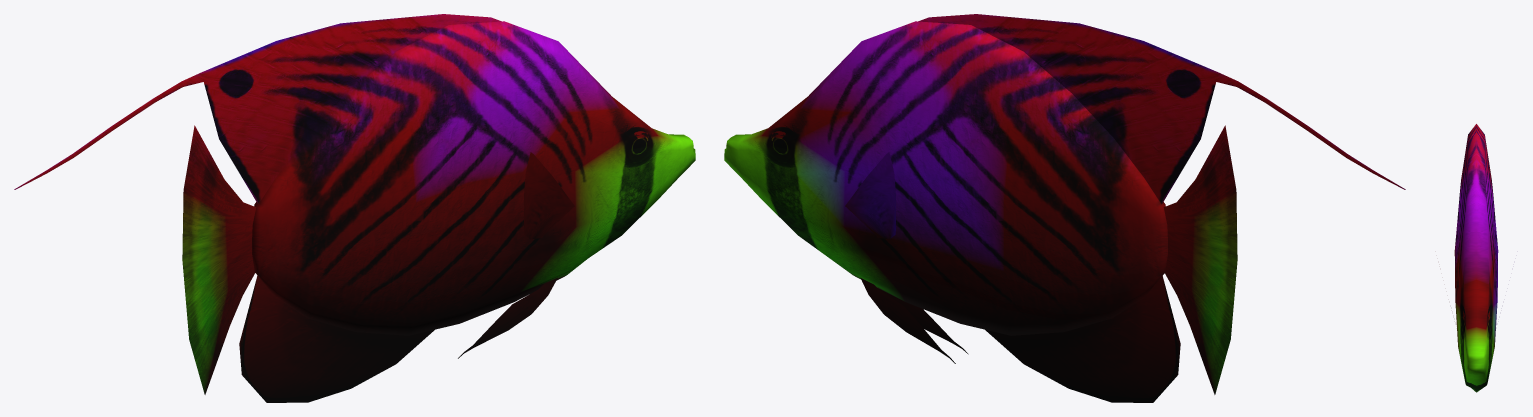
The model's file is threadfin_butterflyfish.glb.
3 renders of one model, left to right at view 1: azimuth 30°, elevation 25°; view 2: azimuth 150°, elevation 25°; view 3: azimuth 270°, elevation 25°, orthographic. The views are drawn at different scales.
Visible parts, largest first — view 1: ThreadfinButterflyfish; view 2: ThreadfinButterflyfish; view 3: ThreadfinButterflyfish.
Boxes of the visible parts, x1,y1,x2,y2 form: ThreadfinButterflyfish: [14, 14, 695, 402]; ThreadfinButterflyfish: [724, 14, 1405, 402]; ThreadfinButterflyfish: [1454, 124, 1498, 392].
Size of the model in its own units: 1 by 0.5211 by 0.1388.
Materials: 1 (1 with a texture image).
